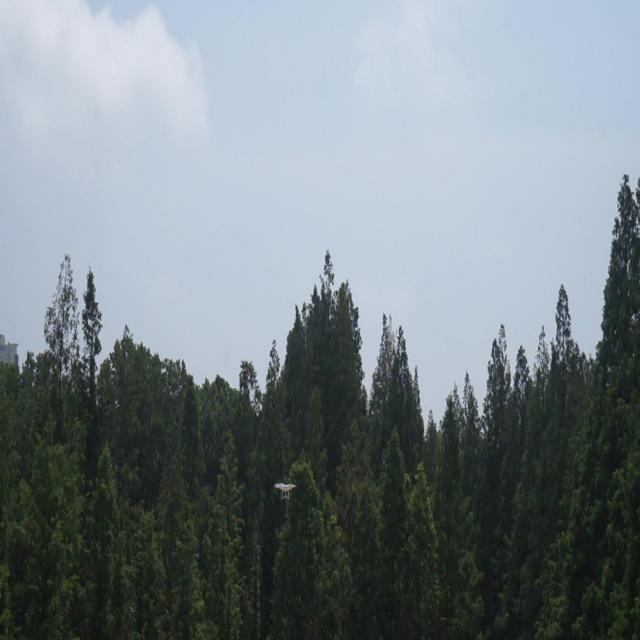UAV: (274, 482, 296, 500)
